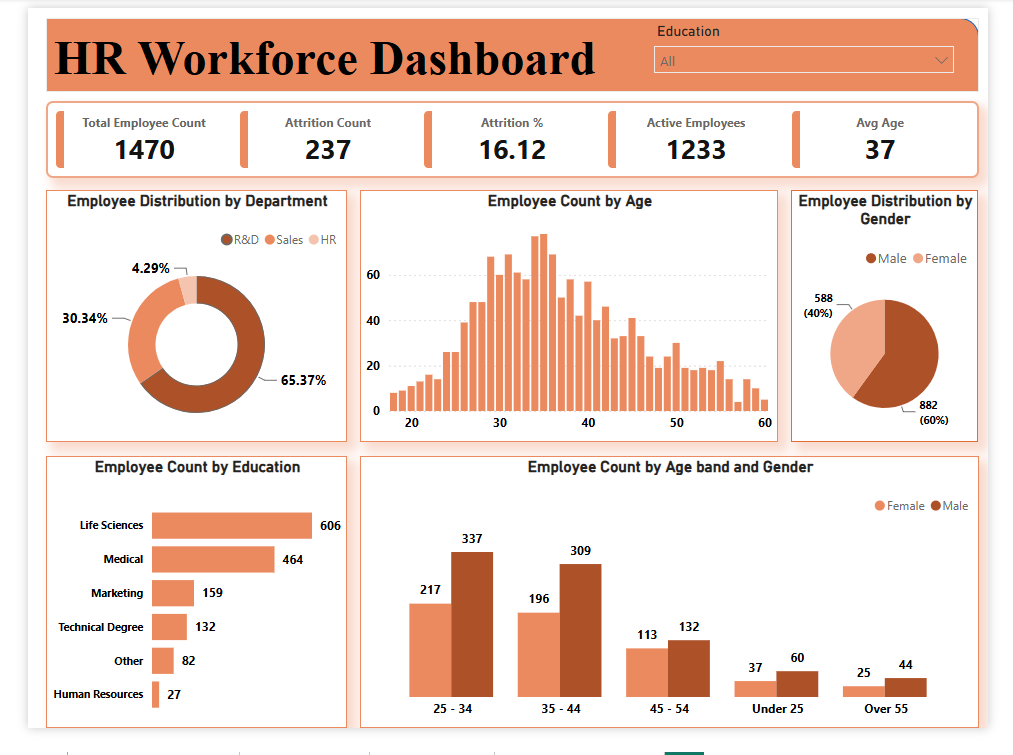

This screenshot's page, from the dashboard's own definition file:
{"tool":"powerbi","page":{"name":"Page 1","canvas":[960,720],"ordinal":0},"visuals":[{"type":"shape","box":[18,10,933,74],"z":0},{"type":"cardVisual","fields":{"Data":["Table.Total Employee Count","Table.Attrition Count","Measure Table.Attrition %","Measure Table.Active Employees","Measure Table.Avg Age"]},"box":[18.3,92.7,932.3,77.2],"z":1000},{"type":"slicer","fields":{"Values":["HR data.Education"]},"box":[616.5,10.2,319.6,63.7],"z":2000},{"type":"pieChart","title":"Attrition by Department","fields":{"Category":["HR data.Department"],"Y":["CountNonNull(HR data.Attrition)"]},"box":[18.2,182,333.3,280.9],"z":3000},{"type":"clusteredColumnChart","title":"Total Employee by Age","fields":{"Y":["Measure Table.Total Employee Count"],"Category":["HR data.Age"]},"box":[365.1,182,323,280.9],"z":4000},{"type":"clusteredBarChart","title":"Employee Count by Education","fields":{"Category":["HR data.Education Field"],"Y":["Sum(HR data.Employee Count)"]},"box":[18,473,333,247],"z":5000},{"type":"clusteredColumnChart","title":"Employee Count by Age band and Gender","fields":{"Category":["HR data.CF_age band"],"Y":["Sum(HR data.Employee Count)"],"Series":["HR data.Gender"]},"box":[365.1,473.2,585.8,246.8],"z":6000},{"type":"pieChart","title":"Attrition by Gender","fields":{"Category":["HR data.Gender"],"Y":["CountNonNull(HR data.Attrition)"]},"box":[697.3,182,252.5,280.9],"z":7000}]}

Visuals, with their boxes in screenshot pixels (x1, y1, x2, y2), scaled from the page's 960x720 canvas onto the 1013x755 screenshot:
shape: [x1=19, y1=10, x2=1004, y2=88]
cardVisual - Table.Total Employee Count x Table.Attrition Count: [x1=19, y1=97, x2=1003, y2=178]
slicer - HR data.Education: [x1=651, y1=11, x2=988, y2=77]
"Attrition by Department" pieChart: [x1=19, y1=191, x2=371, y2=485]
"Total Employee by Age" clusteredColumnChart: [x1=385, y1=191, x2=726, y2=485]
"Employee Count by Education" clusteredBarChart: [x1=19, y1=496, x2=370, y2=754]
"Employee Count by Age band and Gender" clusteredColumnChart: [x1=385, y1=496, x2=1003, y2=754]
"Attrition by Gender" pieChart: [x1=736, y1=191, x2=1002, y2=485]
